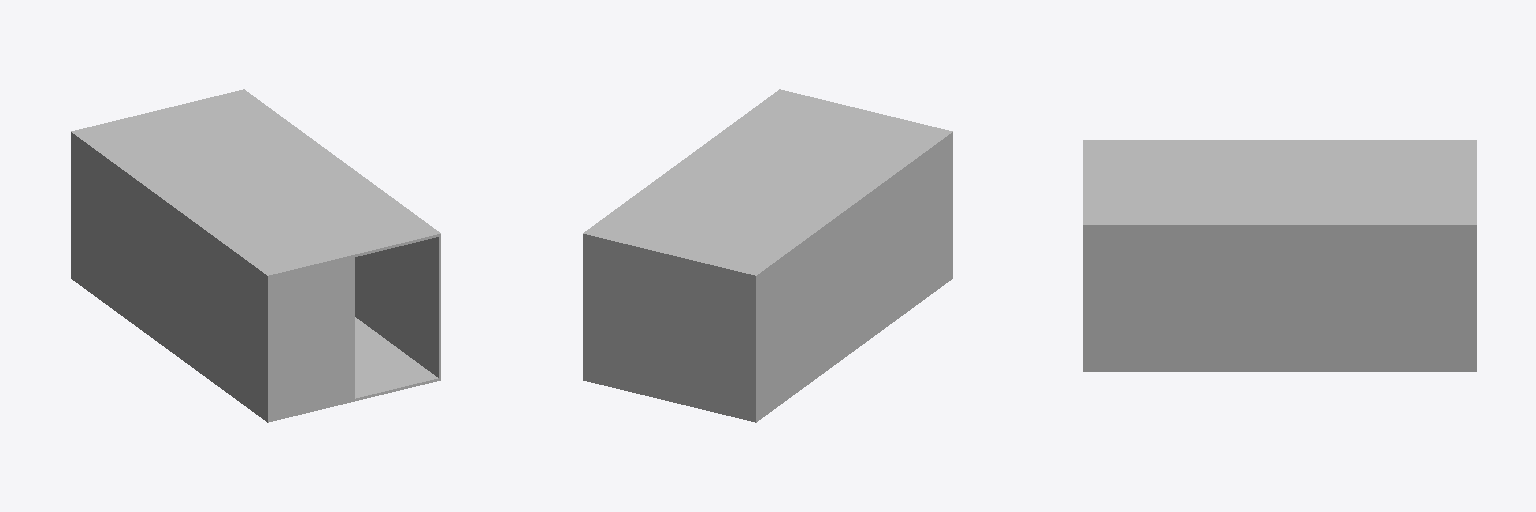
Rendered from room2.obj.
3 renders of one model, left to right at view 1: azimuth 30°, elevation 25°; view 2: azimuth 150°, elevation 25°; view 3: azimuth 270°, elevation 25°, orthographic.
Parts seen in each view (by area): view 1: Walls, Ceiling, Floor; view 2: Walls, Ceiling, Floor; view 3: Walls, Ceiling, Floor.
Part boxes in pixels (x1,y1,x2,y2): Walls: (71,89,440,419); Ceiling: (71,90,440,276); Floor: (71,276,440,422); Walls: (583,89,952,419); Ceiling: (584,89,952,276); Floor: (583,276,952,422); Walls: (1083,140,1476,368); Ceiling: (1083,140,1476,227); Floor: (1083,369,1476,371).
Bounding box in the file's own units: 6 × 4.85 × 11.8.